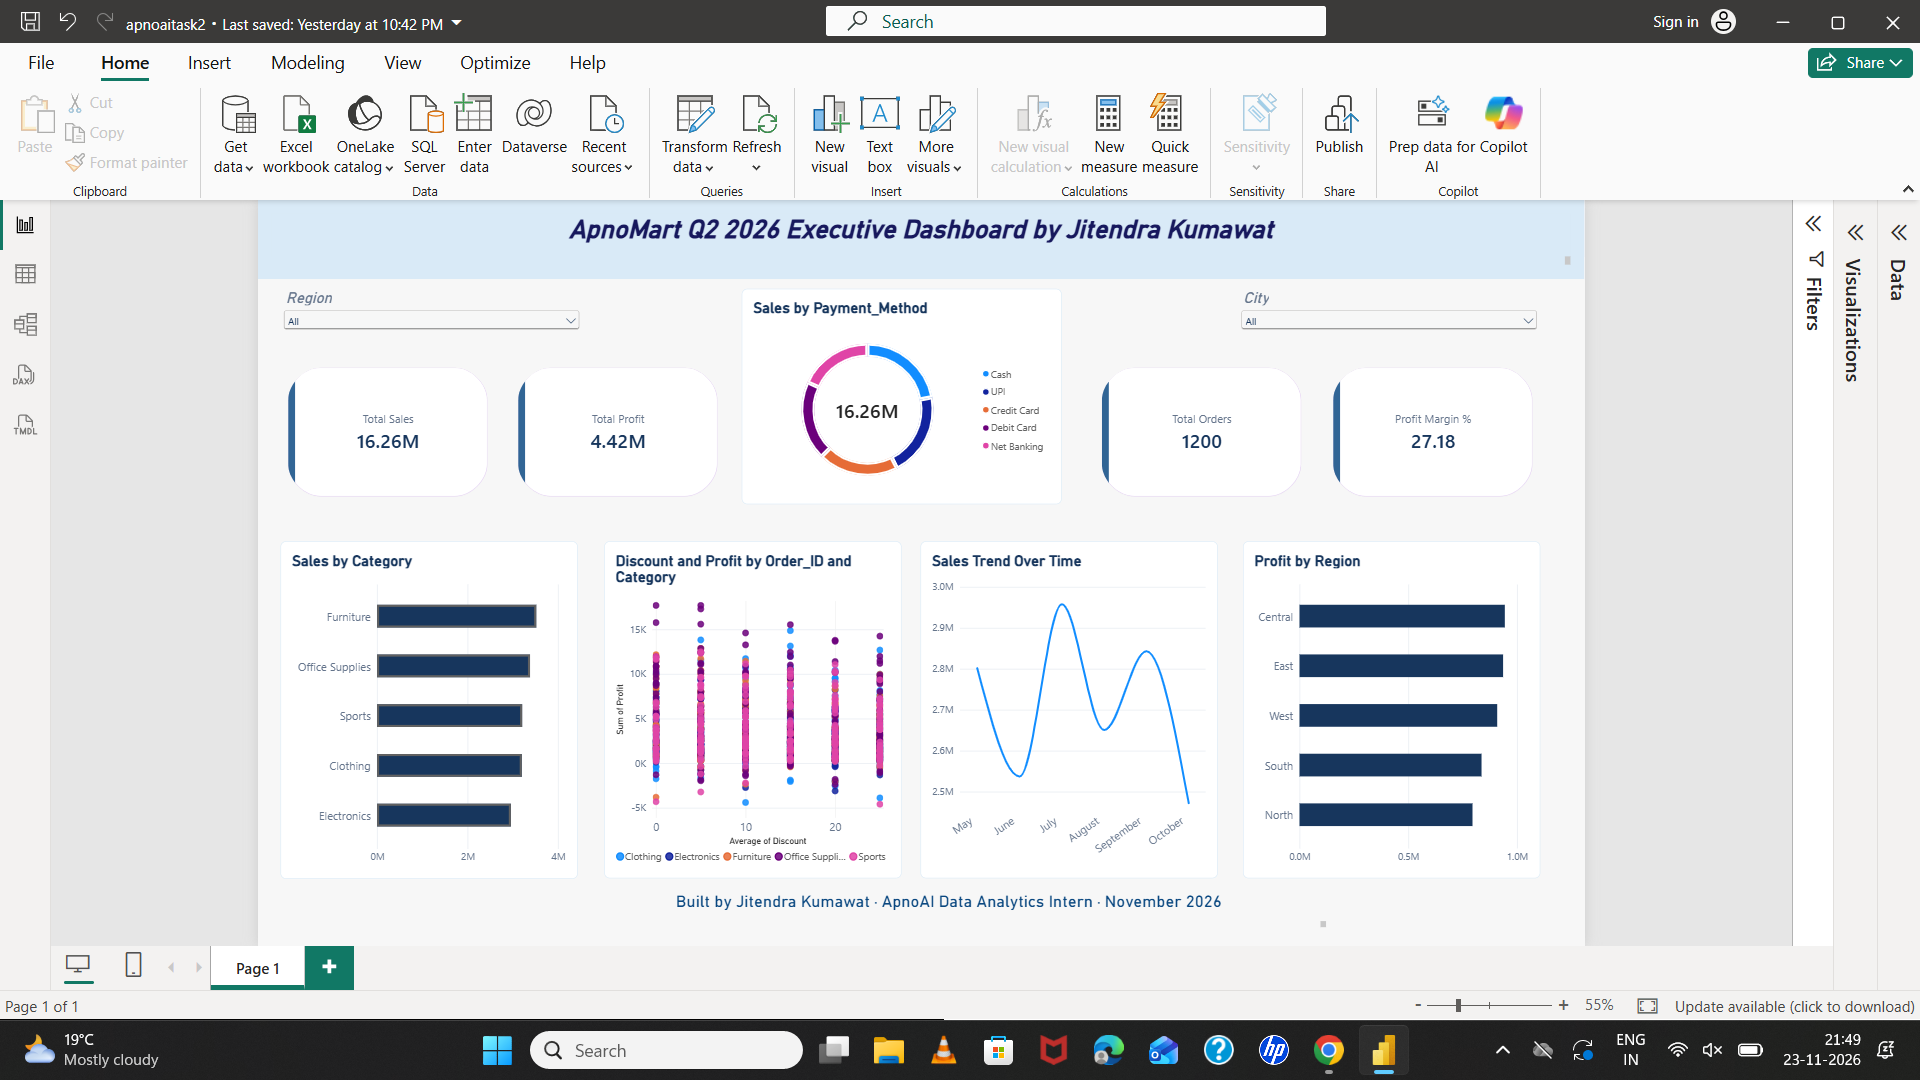

The page's visual inventory and layout, read from the dashboard file:
{"tool":"powerbi","page":{"name":"Page 1","canvas":[1920,1080],"ordinal":0},"visuals":[{"type":"cardVisual","fields":{"Data":["ApnoMart.Total Sales"]},"box":[32,232,310,208],"z":0},{"type":"cardVisual","fields":{"Data":["ApnoMart.Total Profit"]},"box":[366,232,310,208],"z":1000},{"type":"cardVisual","fields":{"Data":["ApnoMart.Total Orders"]},"box":[1210,232,310,208],"z":2000},{"type":"cardVisual","fields":{"Data":["ApnoMart.Profit Margin %"]},"box":[1546,232,310,208],"z":3000},{"type":"textbox","title":"ApnoMart Q2 2026 Executive Dashboard   by  Jitendra Kumawat","box":[0,0,1920,114],"z":4000},{"type":"clusteredBarChart","title":"Sales by Category","fields":{"Category":["ApnoMart.Category"],"Y":["Sum(ApnoMart.Sales)"]},"box":[32.6,494,430,488.6],"z":5000},{"type":"lineChart","title":"Sales Trend Over Time","fields":{"Category":["ApnoMart.Order_Date.Variation.Date Hierarchy.Month"],"Y":["ApnoMart.Total Sales"]},"box":[959.1,494,430,488],"z":6000},{"type":"clusteredBarChart","title":"Profit by Region","fields":{"Category":["ApnoMart.Region"],"Y":["ApnoMart.Total Profit"]},"box":[1426,494,430,488],"z":7000},{"type":"slicer","fields":{"Values":["ApnoMart.Region"]},"box":[32,128,438,82],"z":8000},{"type":"slicer","fields":{"Values":["ApnoMart.City"]},"box":[1418,128,438,82],"z":9000},{"type":"textbox","title":"Built by Jitendra Kumawat · ApnoAI Data Analytics Intern · November 2026","box":[454,1000,1092,52],"z":9001},{"type":"scatterChart","title":"Discount and Profit by Order_ID and Category","fields":{"Category":["ApnoMart.Order_ID"],"Series":["ApnoMart.Category"],"X":["Avg(ApnoMart.Discount)"],"Y":["Sum(ApnoMart.Profit)"]},"box":[501.7,493.3,430,488],"z":9002},{"type":"donutChart","title":"Sales by Payment_Method","fields":{"Category":["ApnoMart.Payment_Method"],"Y":["Sum(ApnoMart.Sales)"]},"box":[700,128.3,463.3,311.7],"z":9003}]}

Visuals, with their boxes on the page's 1920x1080 design canvas (x1, y1, x2, y2). These are canvas units, not pixel positions in the 1920x1080 screenshot, which may show the page scaled, cropped or inside an application window:
cardVisual - ApnoMart.Total Sales: l=32, t=232, r=342, b=440
cardVisual - ApnoMart.Total Profit: l=366, t=232, r=676, b=440
cardVisual - ApnoMart.Total Orders: l=1210, t=232, r=1520, b=440
cardVisual - ApnoMart.Profit Margin %: l=1546, t=232, r=1856, b=440
"ApnoMart Q2 2026 Executive Dashboard   by  Jitendra Kumawat" textbox: l=0, t=0, r=1920, b=114
"Sales by Category" clusteredBarChart: l=33, t=494, r=463, b=983
"Sales Trend Over Time" lineChart: l=959, t=494, r=1389, b=982
"Profit by Region" clusteredBarChart: l=1426, t=494, r=1856, b=982
slicer - ApnoMart.Region: l=32, t=128, r=470, b=210
slicer - ApnoMart.City: l=1418, t=128, r=1856, b=210
"Built by Jitendra Kumawat · ApnoAI Data Analytics Intern · November 2026" textbox: l=454, t=1000, r=1546, b=1052
"Discount and Profit by Order_ID and Category" scatterChart: l=502, t=493, r=932, b=981
"Sales by Payment_Method" donutChart: l=700, t=128, r=1163, b=440
